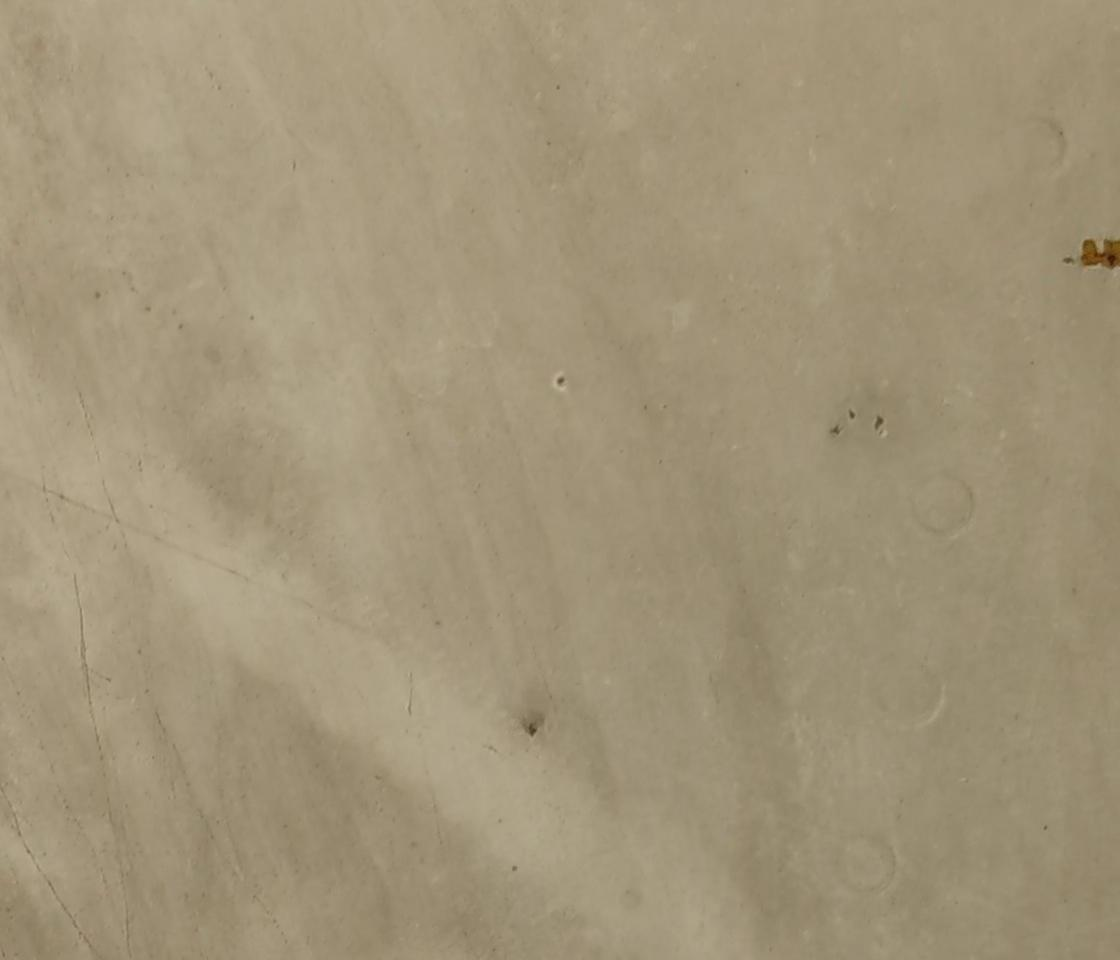rust: (1078, 228, 1119, 273)
